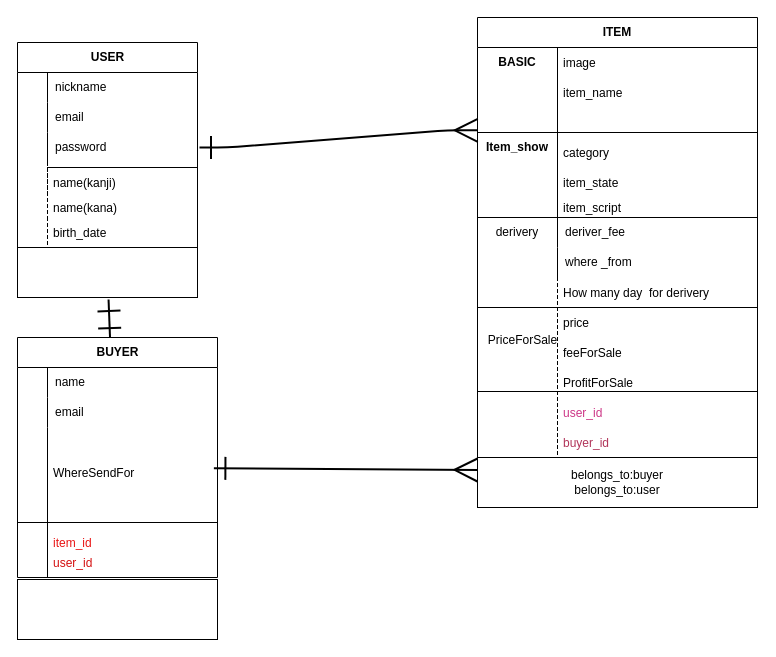
Some shapes in this 776 by 657 pixel diagram are drawn without their labels. Here are the shapes that lost their labels. From the top down, the box of each, then its label:
(16, 246, 198, 298): has_many:items has_one:buyer
(16, 578, 218, 640): belongs_to:user has_many:items
